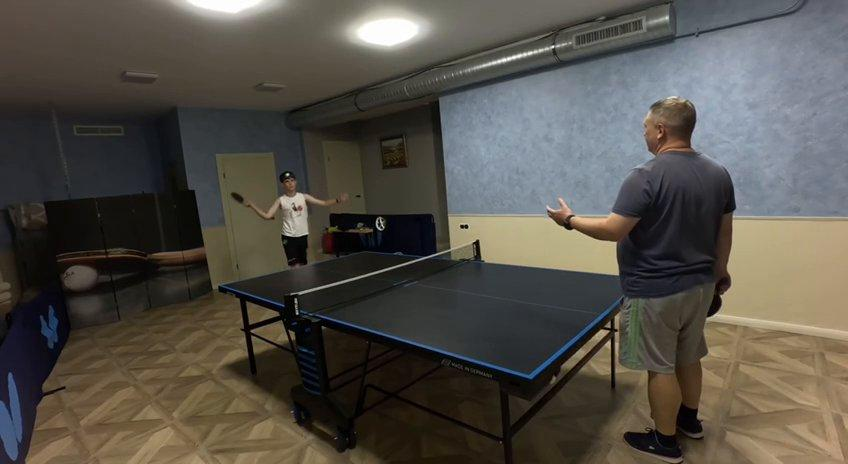Ball: (282, 171, 292, 178)
Net: (283, 240, 482, 325)
Player1: (230, 171, 346, 266)
Player2: (576, 96, 735, 437)
Table: (219, 251, 630, 379)
